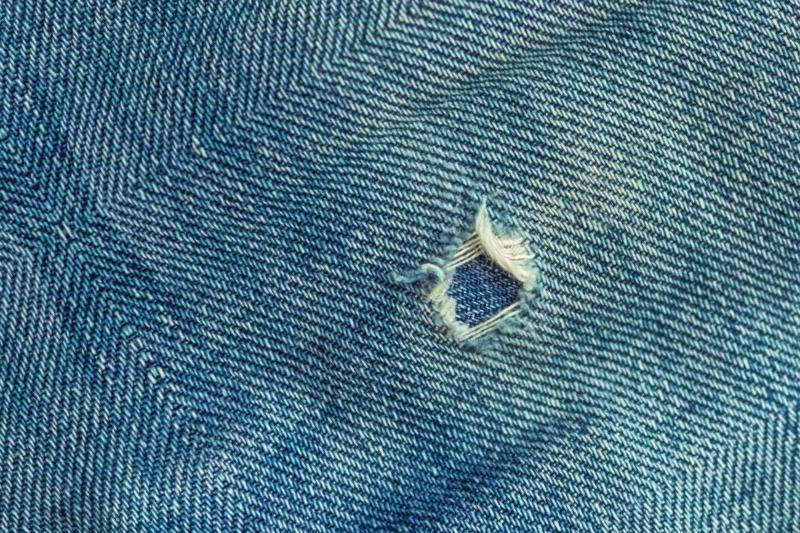hole: (414, 228, 554, 346)
